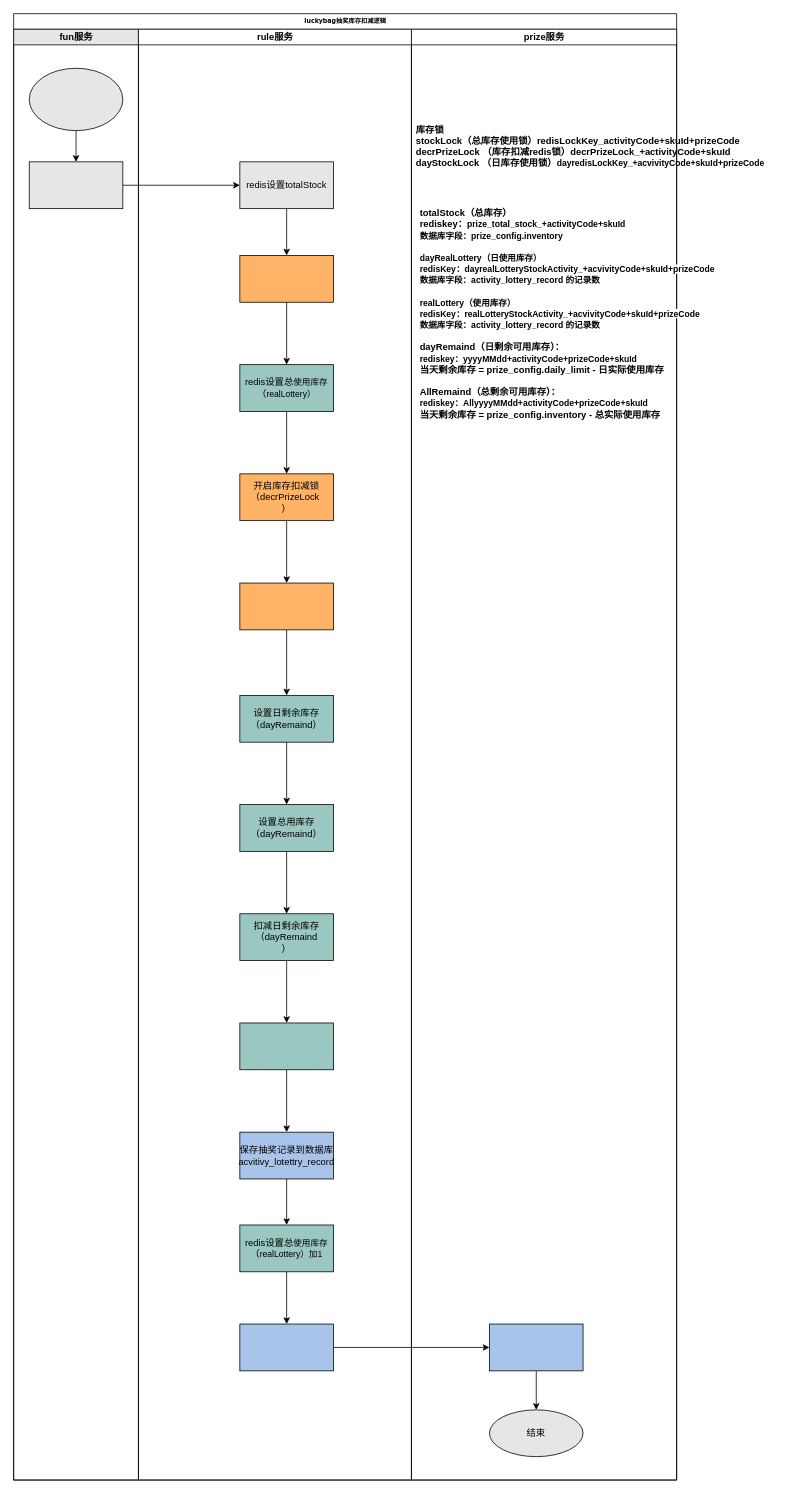
Some shapes in this 810 by 1494 pixel diagram are drawn without their labels. Here are the shapes that lost their labels. From the top down, the centre of each, then its label:
At point 75,99: "开始".
At point 75,185: "抽奖接口".
At point 286,278: "加锁 stockLock".
At point 286,606: "开启日使用存锁（ dayStockLock ）".
At point 286,1046: "扣减总剩余库存（dayRemaind） ）".
At point 286,1347: "异步扣减数据库库存 prize_config .excess_inventory-1".
At point 536,1347: "数据库库存扣减 prize_list.inventory 减1".
